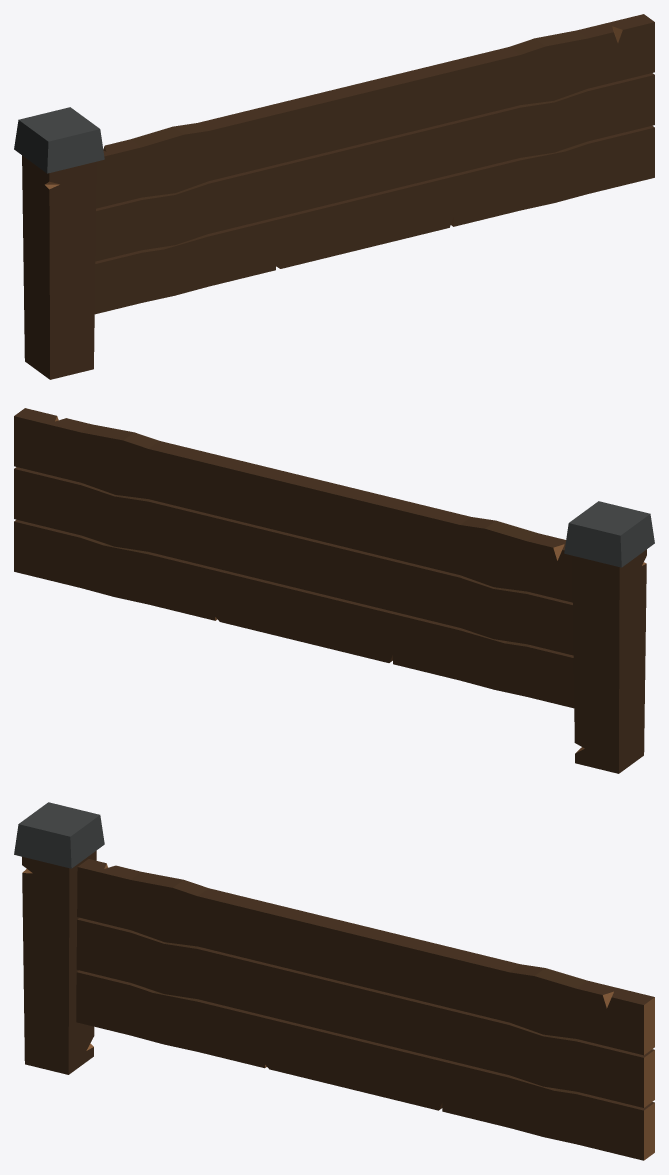
File: Fence_5_Dark_Brown.fbx
3 views of the same model, one above another, from view 1: azimuth 30°, elevation 25°; view 2: azimuth 150°, elevation 25°; view 3: azimuth 330°, elevation 25° (orthographic).
Parts seen in each view (by area): view 1: Fence_5_Dark_Brown; view 2: Fence_5_Dark_Brown; view 3: Fence_5_Dark_Brown.
Boxes of the visible parts, box(x1,y1,x2,y2) form: Fence_5_Dark_Brown: box(14, 14, 654, 379); Fence_5_Dark_Brown: box(14, 408, 654, 773); Fence_5_Dark_Brown: box(14, 802, 654, 1160).
Bounding box in the file's own units: 258 × 96 × 24.
